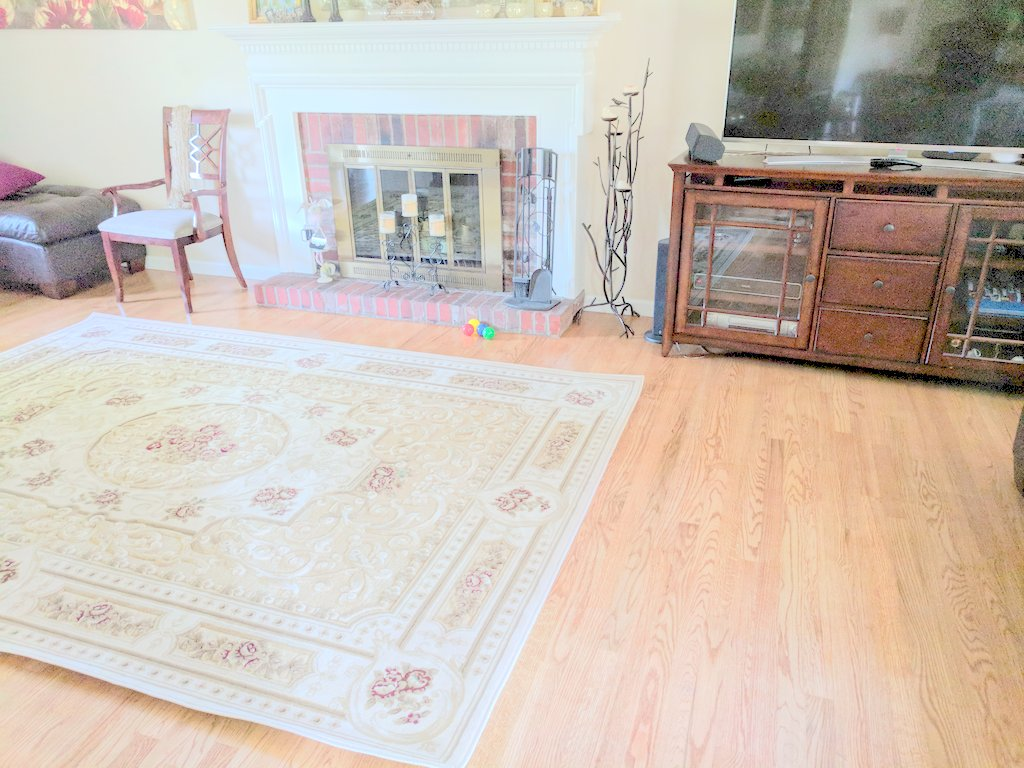ball: (462, 324, 474, 337)
